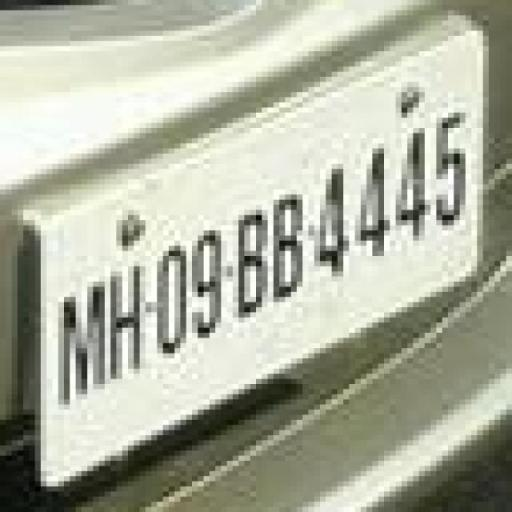number plate: (82, 87, 466, 440)
